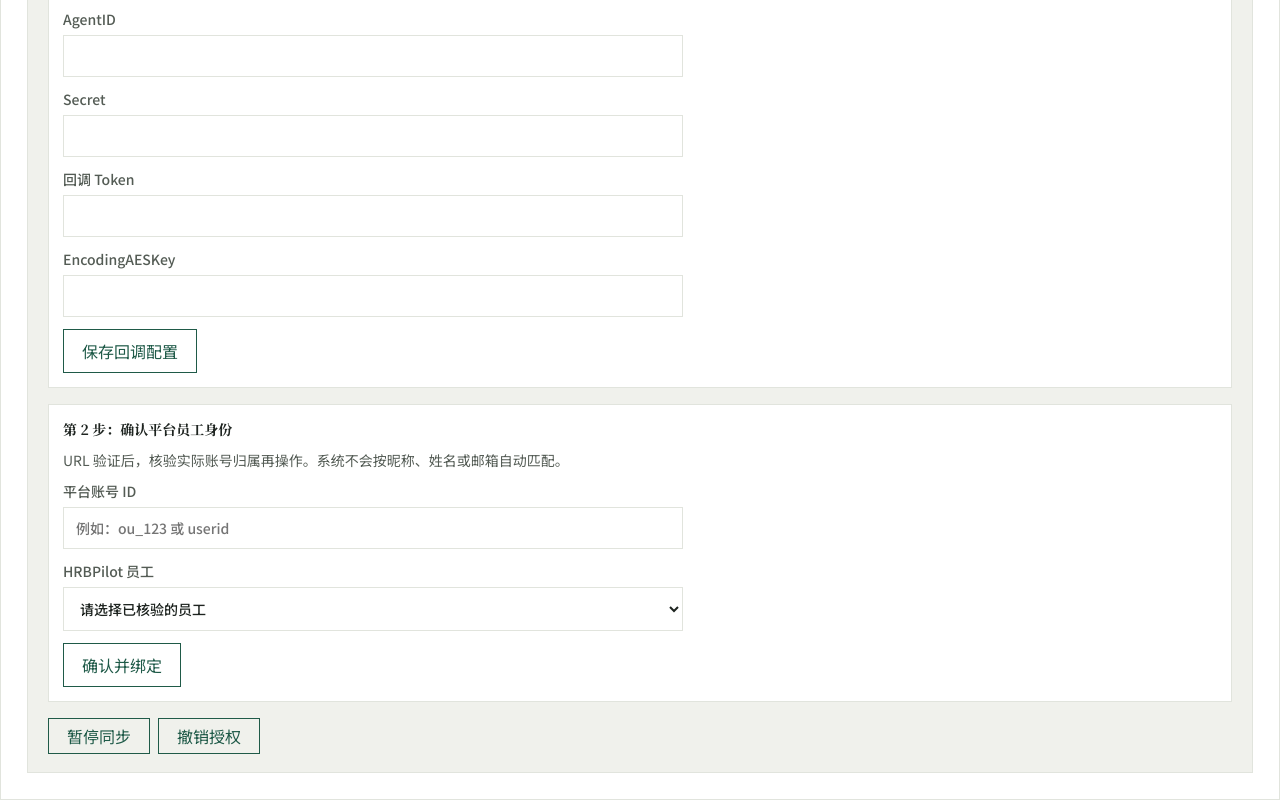
Test: administrator explicitly binds a platform account to an employee
The image size is (1280, 800).
(page scrolled)
Type "ou_123" into the field labelled "平台账号 ID" at (373, 528), box [63,507,683,549]
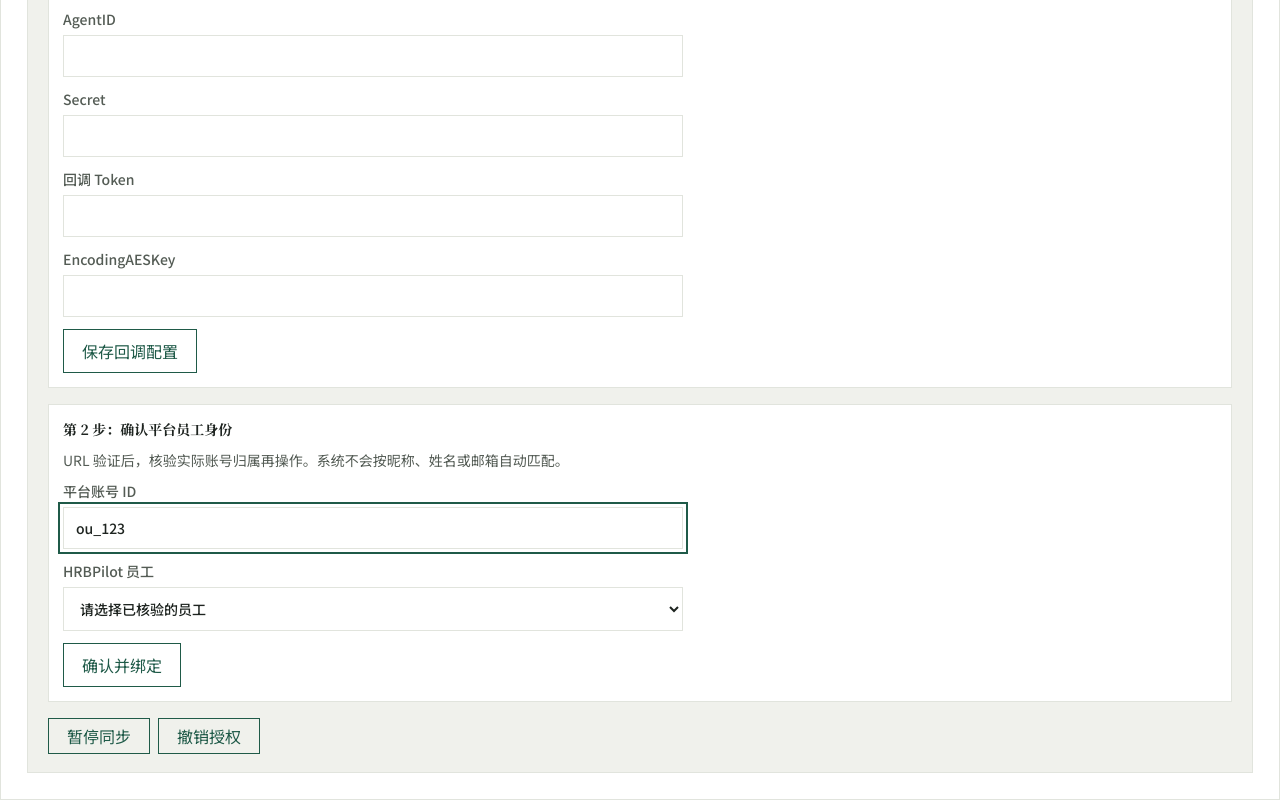
Select "员工甲（employee@example.test）" in the dropdown labelled "HRBPilot 员工" at (373, 609), box [63,587,683,631]
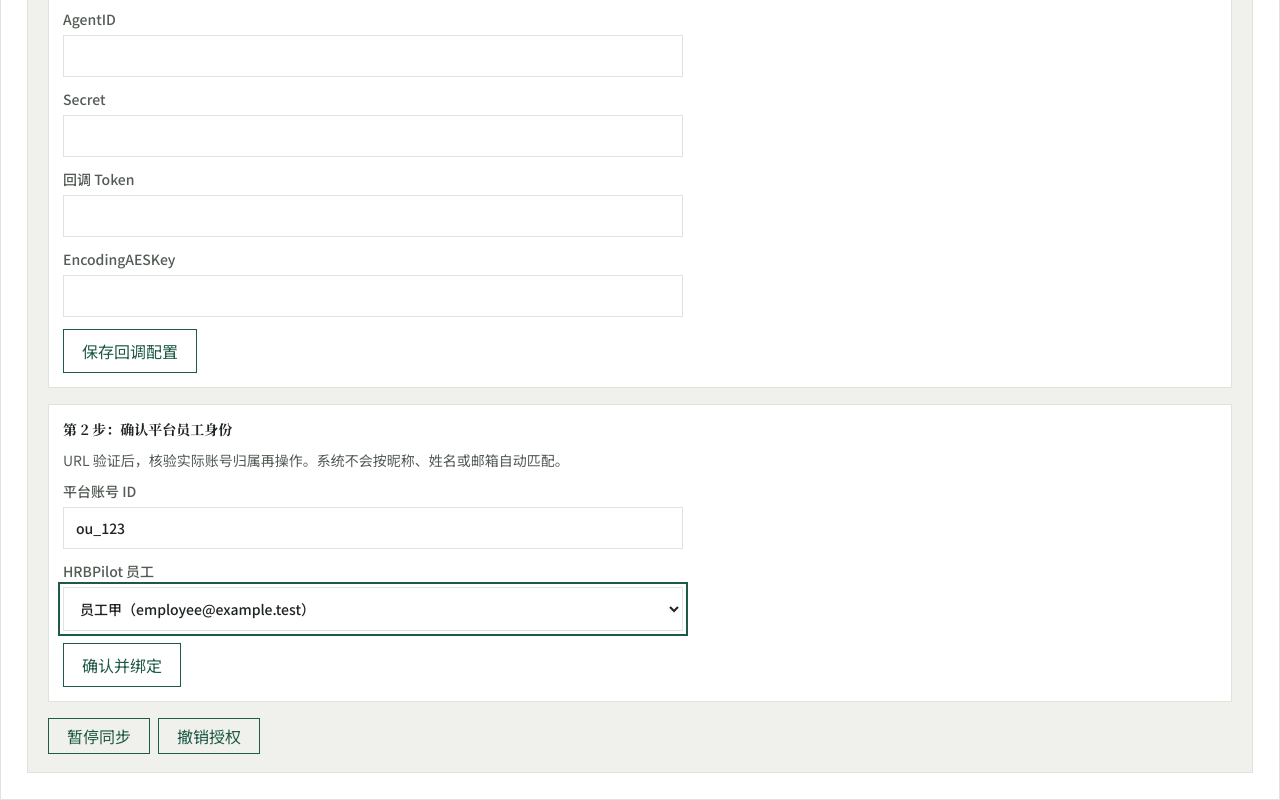
Click the button "确认并绑定" at (122, 665), box [63,643,181,687]
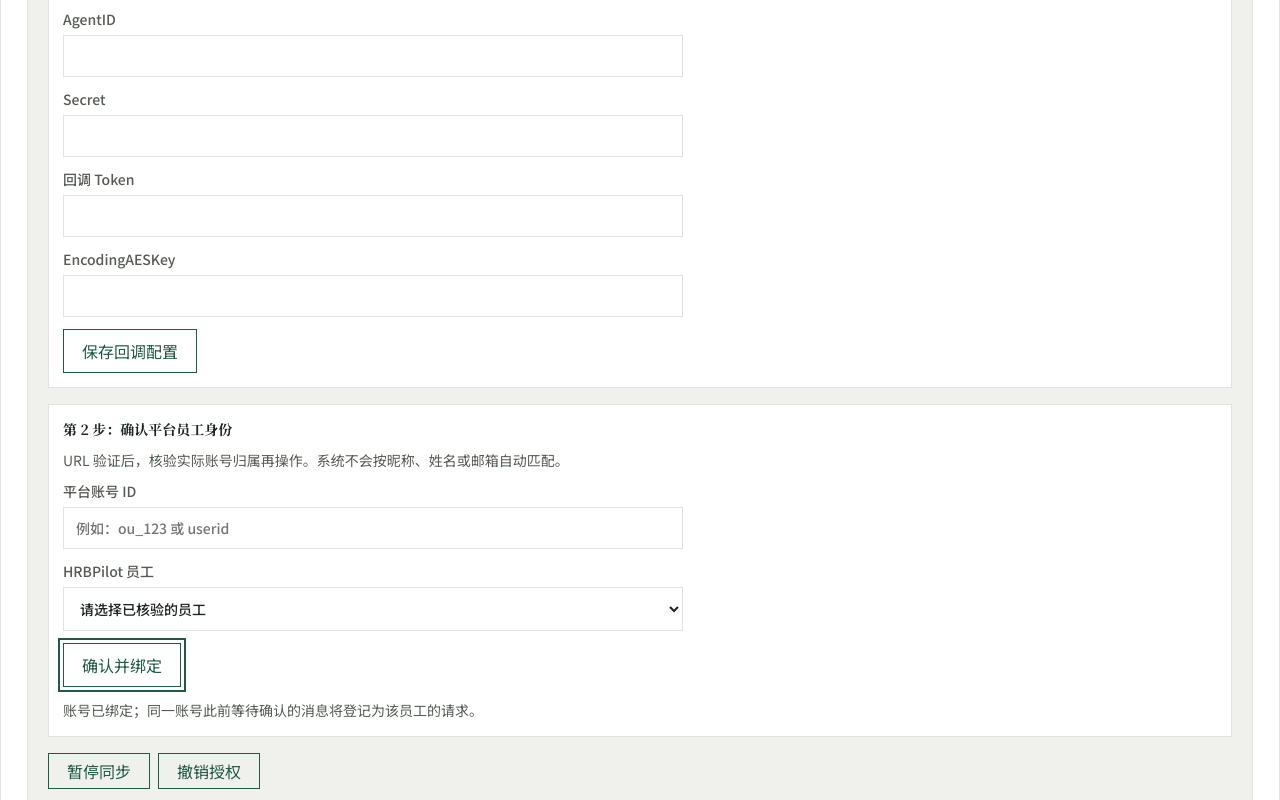
Expected: the text "账号已绑定；同一账号此前等待确认的消息将登记为该员工的请求。" is shown, [63,700,483,720]
